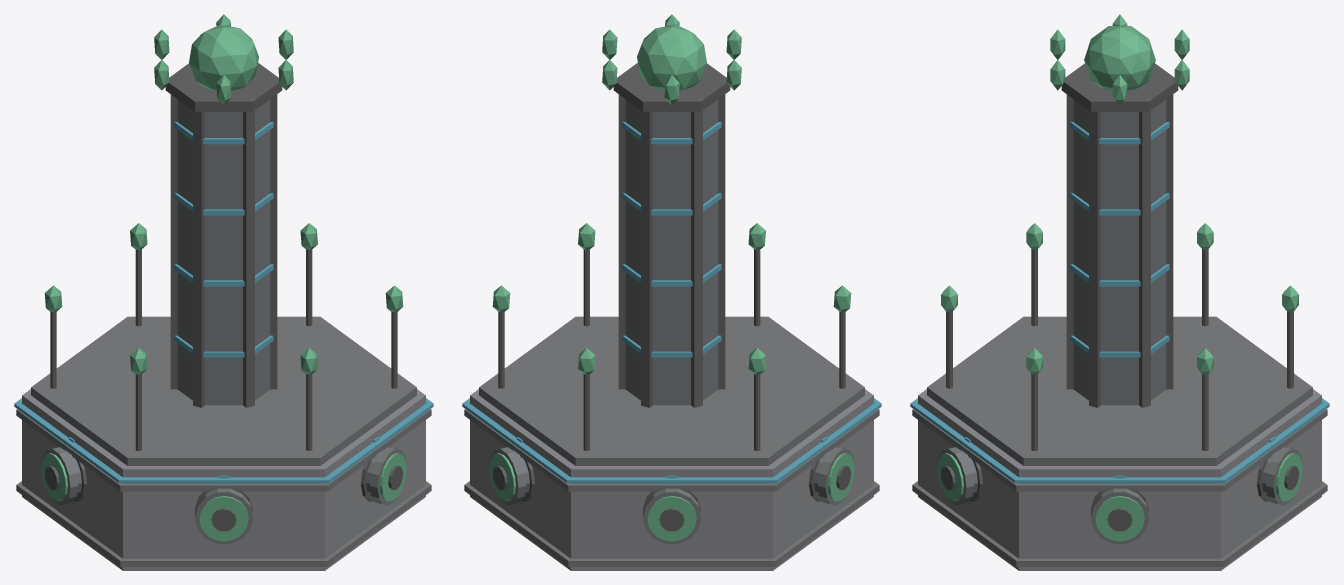
The model's file is guild_beam_s2_ruin.glb.
3 views of the same model, side by side, from view 1: azimuth 30°, elevation 25°; view 2: azimuth 150°, elevation 25°; view 3: azimuth 270°, elevation 25° (orthographic).
Parts seen in each view (by area): view 1: GB_BaseCap, GB_Base, GB_Tower, GB_Base_BandLow, GB_CoreCrystal, GB_TowerStrut_3, GB_TowerStrut_4, GB_Base_BandHigh, GB_Base_RuneBand, GB_TowerCap, GB_TowerStrut_2, GB_TowerStrut_5 (+16 smaller); view 2: GB_BaseCap, GB_Base, GB_Tower, GB_Base_BandLow, GB_CoreCrystal, GB_TowerStrut_1, GB_TowerStrut_2, GB_Base_BandHigh, GB_Base_RuneBand, GB_TowerCap, GB_TowerStrut_0, GB_TowerStrut_3 (+16 smaller); view 3: GB_BaseCap, GB_Base, GB_Tower, GB_Base_BandLow, GB_CoreCrystal, GB_TowerStrut_0, GB_TowerStrut_5, GB_Base_BandHigh, GB_Base_RuneBand, GB_TowerCap, GB_TowerStrut_1, GB_TowerStrut_4 (+16 smaller).
Part boxes in pixels (bbox=[...]): GB_BaseCap: bbox=[31, 316, 416, 465]; GB_Base: bbox=[22, 389, 425, 570]; GB_Tower: bbox=[177, 99, 270, 405]; GB_Base_BandLow: bbox=[16, 481, 431, 566]; GB_CoreCrystal: bbox=[189, 24, 258, 90]; GB_TowerStrut_3: bbox=[193, 111, 204, 407]; GB_TowerStrut_4: bbox=[243, 111, 254, 407]; GB_Base_BandHigh: bbox=[16, 409, 431, 491]; GB_Base_RuneBand: bbox=[14, 398, 433, 483]; GB_TowerCap: bbox=[165, 63, 282, 111]; GB_TowerStrut_2: bbox=[170, 94, 177, 389]; GB_TowerStrut_5: bbox=[270, 94, 277, 389]; GB_BaseCap: bbox=[479, 316, 864, 465]; GB_Base: bbox=[470, 389, 873, 570]; GB_Tower: bbox=[625, 99, 718, 405]; GB_Base_BandLow: bbox=[464, 481, 879, 566]; GB_CoreCrystal: bbox=[637, 24, 706, 90]; GB_TowerStrut_1: bbox=[641, 111, 652, 407]; GB_TowerStrut_2: bbox=[691, 111, 702, 407]; GB_Base_BandHigh: bbox=[464, 409, 879, 491]; GB_Base_RuneBand: bbox=[462, 398, 881, 483]; GB_TowerCap: bbox=[613, 63, 730, 111]; GB_TowerStrut_0: bbox=[618, 94, 625, 389]; GB_TowerStrut_3: bbox=[718, 94, 725, 389]; GB_BaseCap: bbox=[927, 316, 1312, 465]; GB_Base: bbox=[918, 389, 1321, 570]; GB_Tower: bbox=[1073, 99, 1166, 405]; GB_Base_BandLow: bbox=[912, 481, 1327, 566]; GB_CoreCrystal: bbox=[1084, 26, 1155, 90]; GB_TowerStrut_0: bbox=[1139, 111, 1150, 407]; GB_TowerStrut_5: bbox=[1089, 111, 1100, 407]; GB_Base_BandHigh: bbox=[912, 409, 1327, 491]; GB_Base_RuneBand: bbox=[910, 398, 1329, 483]; GB_TowerCap: bbox=[1061, 63, 1178, 111]; GB_TowerStrut_1: bbox=[1166, 94, 1173, 389]; GB_TowerStrut_4: bbox=[1066, 94, 1073, 389].
Size of the model in its own units: 1.78 by 2.31 by 1.87.
